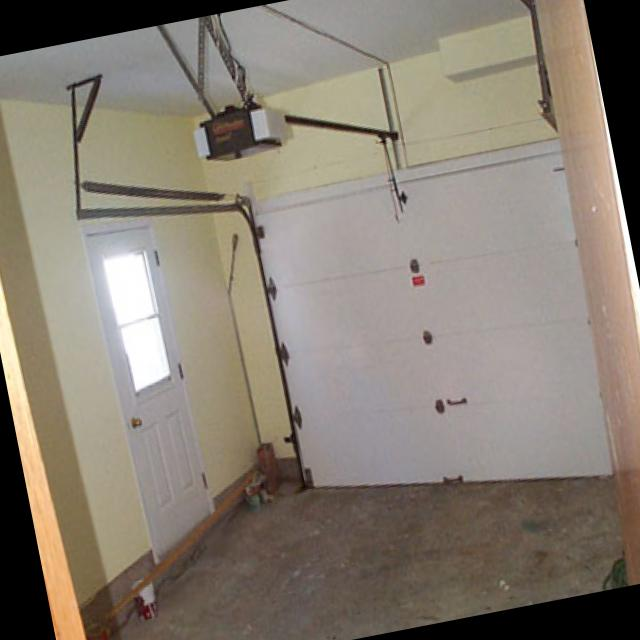door bars: (78, 214, 214, 562), (0, 274, 87, 640)
floor -X: (101, 473, 623, 640)
metal shutters: (247, 135, 612, 484)
motor: (190, 105, 400, 204)
tin box: (130, 577, 156, 618), (83, 619, 108, 640)
wall clock: (187, 11, 557, 479), (0, 97, 268, 640), (534, 0, 640, 585)
